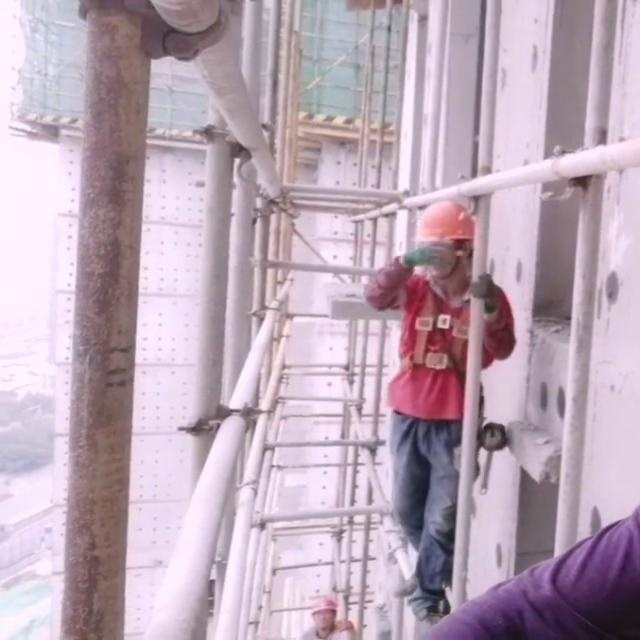Arnes_seguridad: (392, 270, 484, 384)
